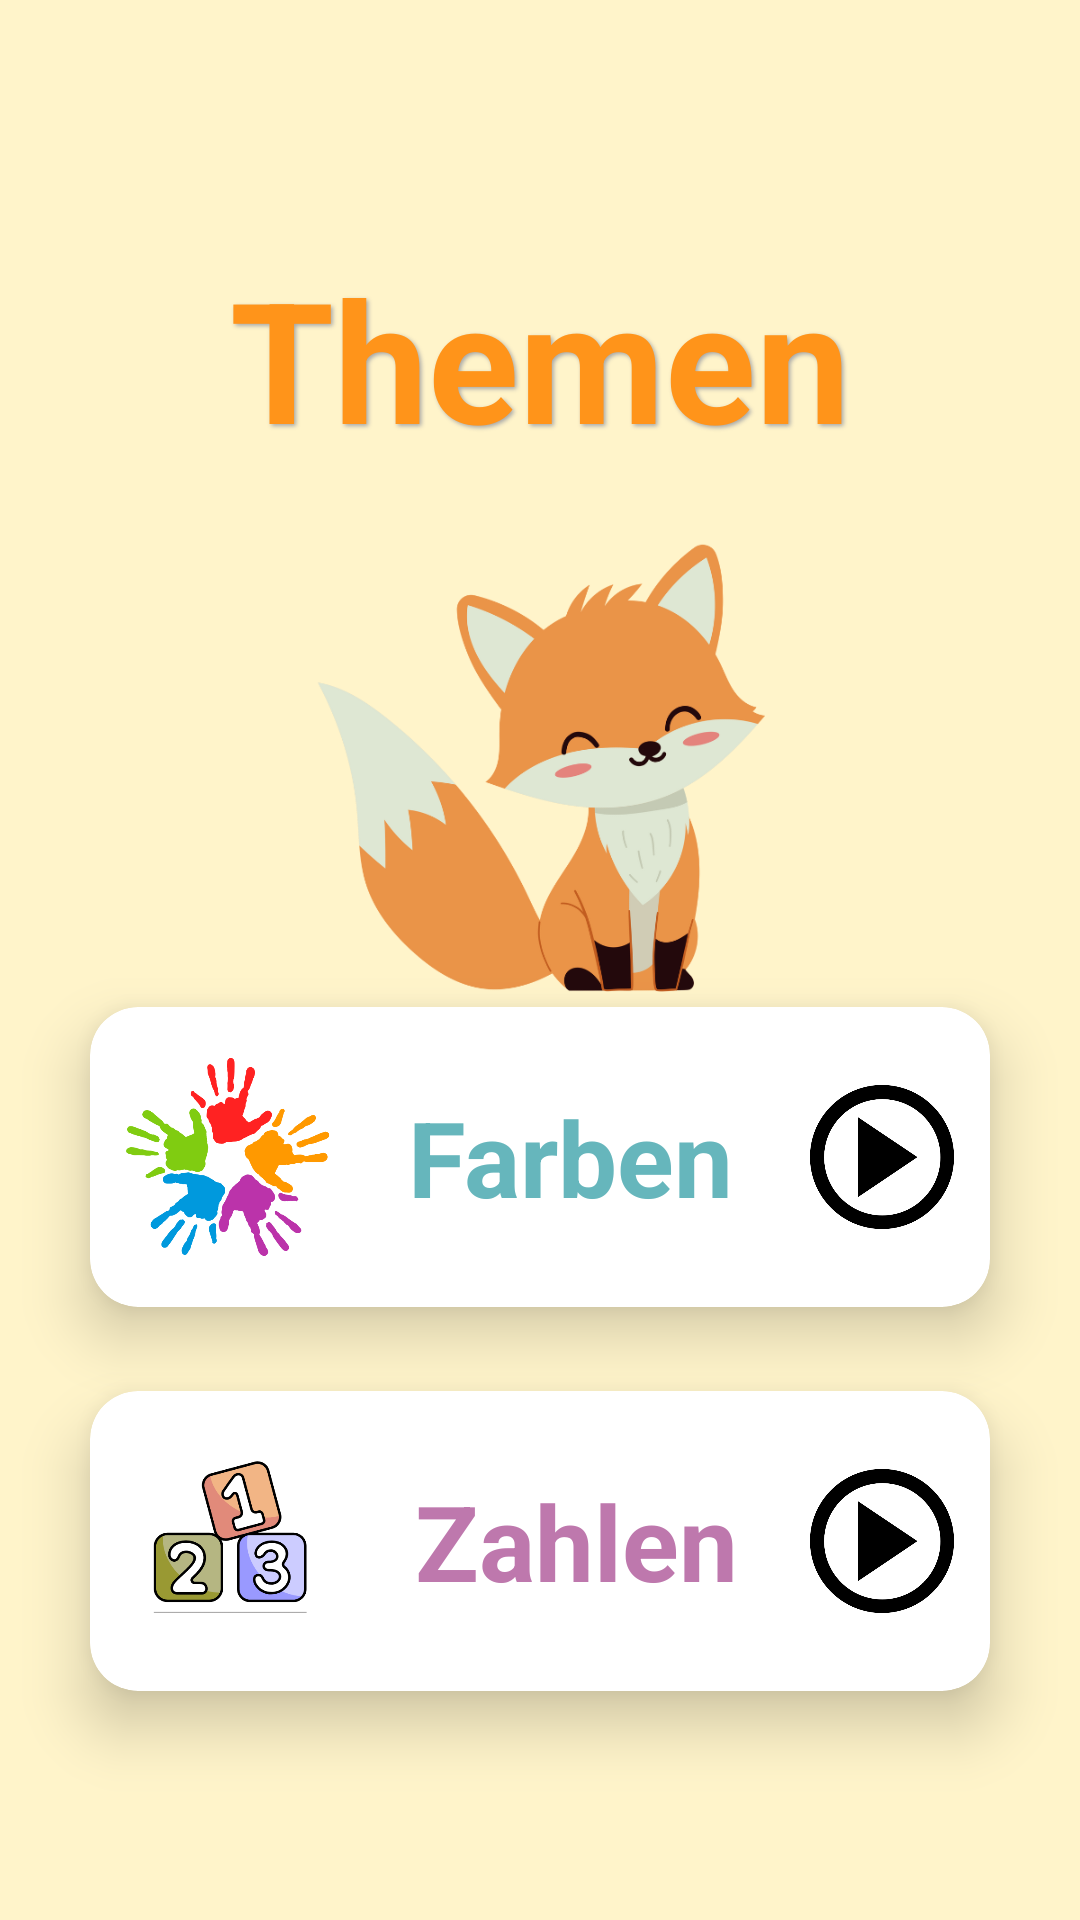

Icons on this 1080px x 1920px Android screen, each with its box as (x1, y1, x2, y2):
Colors Icon: (126, 1058, 329, 1256)
Numbers Icon: (153, 1461, 307, 1613)
Play Colors: (810, 1085, 954, 1229)
Play Numbers: (810, 1469, 954, 1613)
